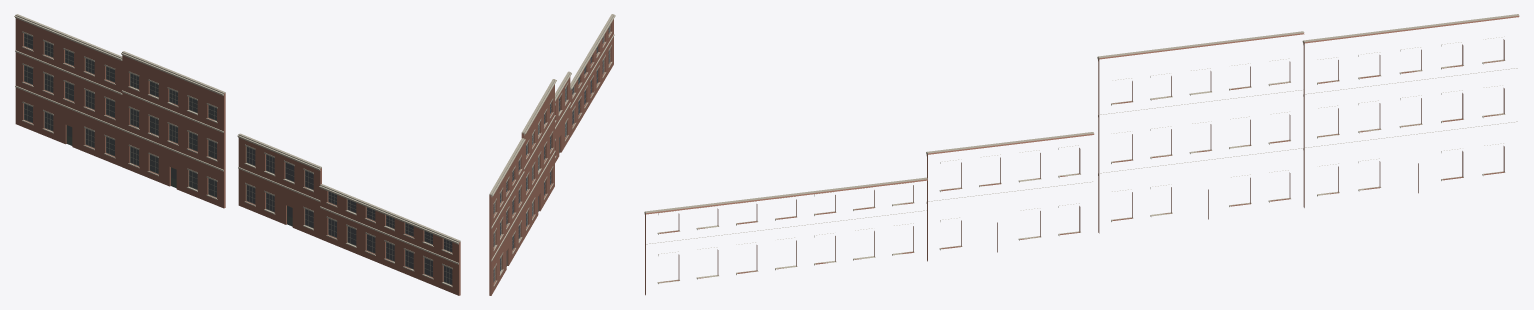
The picture shows the model from 3 angles, left to right: view 1: azimuth 30°, elevation 25°; view 2: azimuth 150°, elevation 25°; view 3: azimuth 270°, elevation 25°; orthographic projection. The views are drawn at different scales.
Parts seen in each view (by area): view 1: f:way/46928888; view 2: f:way/46928888; view 3: f:way/46928888.
Part boxes in pixels (x1,y1,x2,y2): f:way/46928888: (14,14,460,295); f:way/46928888: (489,14,615,295); f:way/46928888: (644,14,1519,295).
Bounding box in the file's own units: 19.39 × 13.44 × 60.76.
